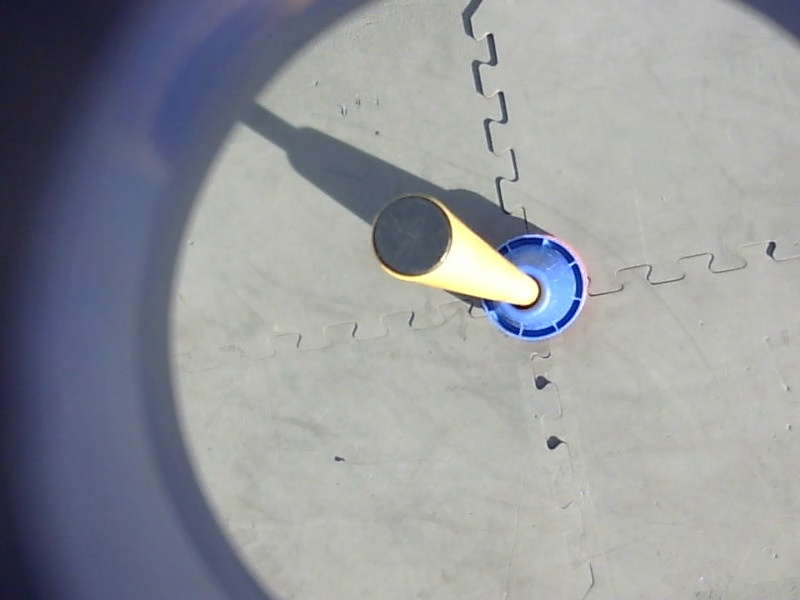tip: (366, 189, 459, 285)
